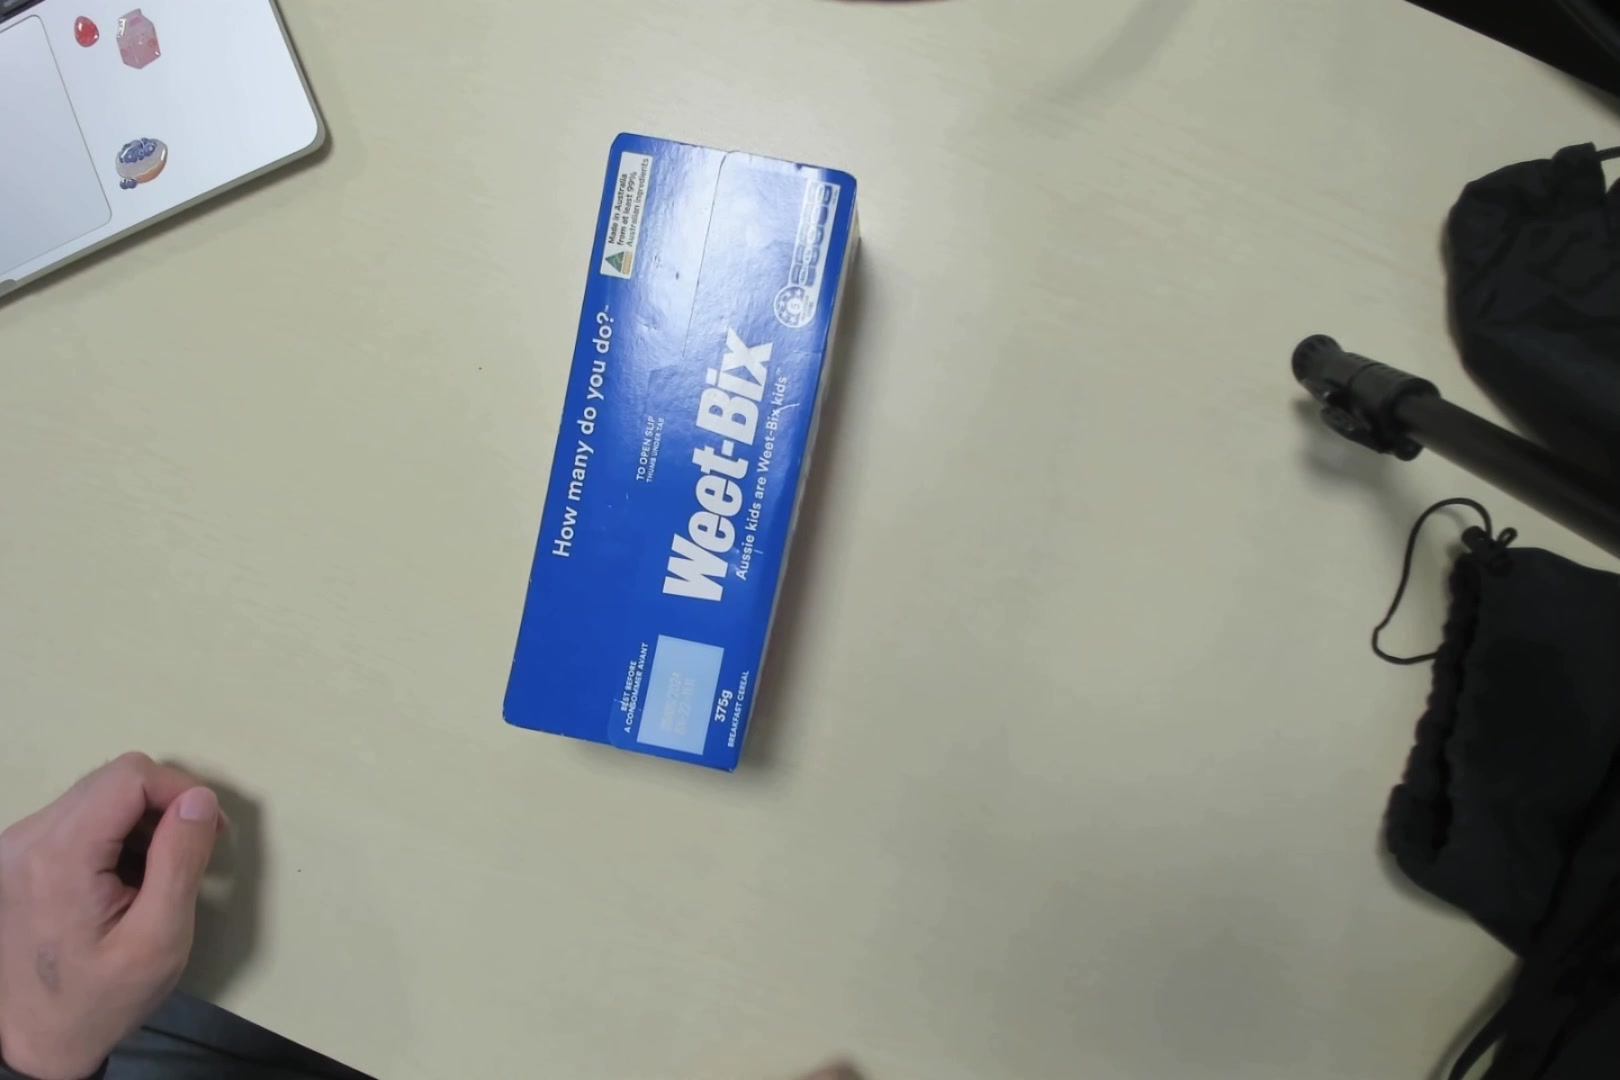BreakfastCereals_300-399g_NonHalal_NonHealthy: (511, 127, 857, 756)
